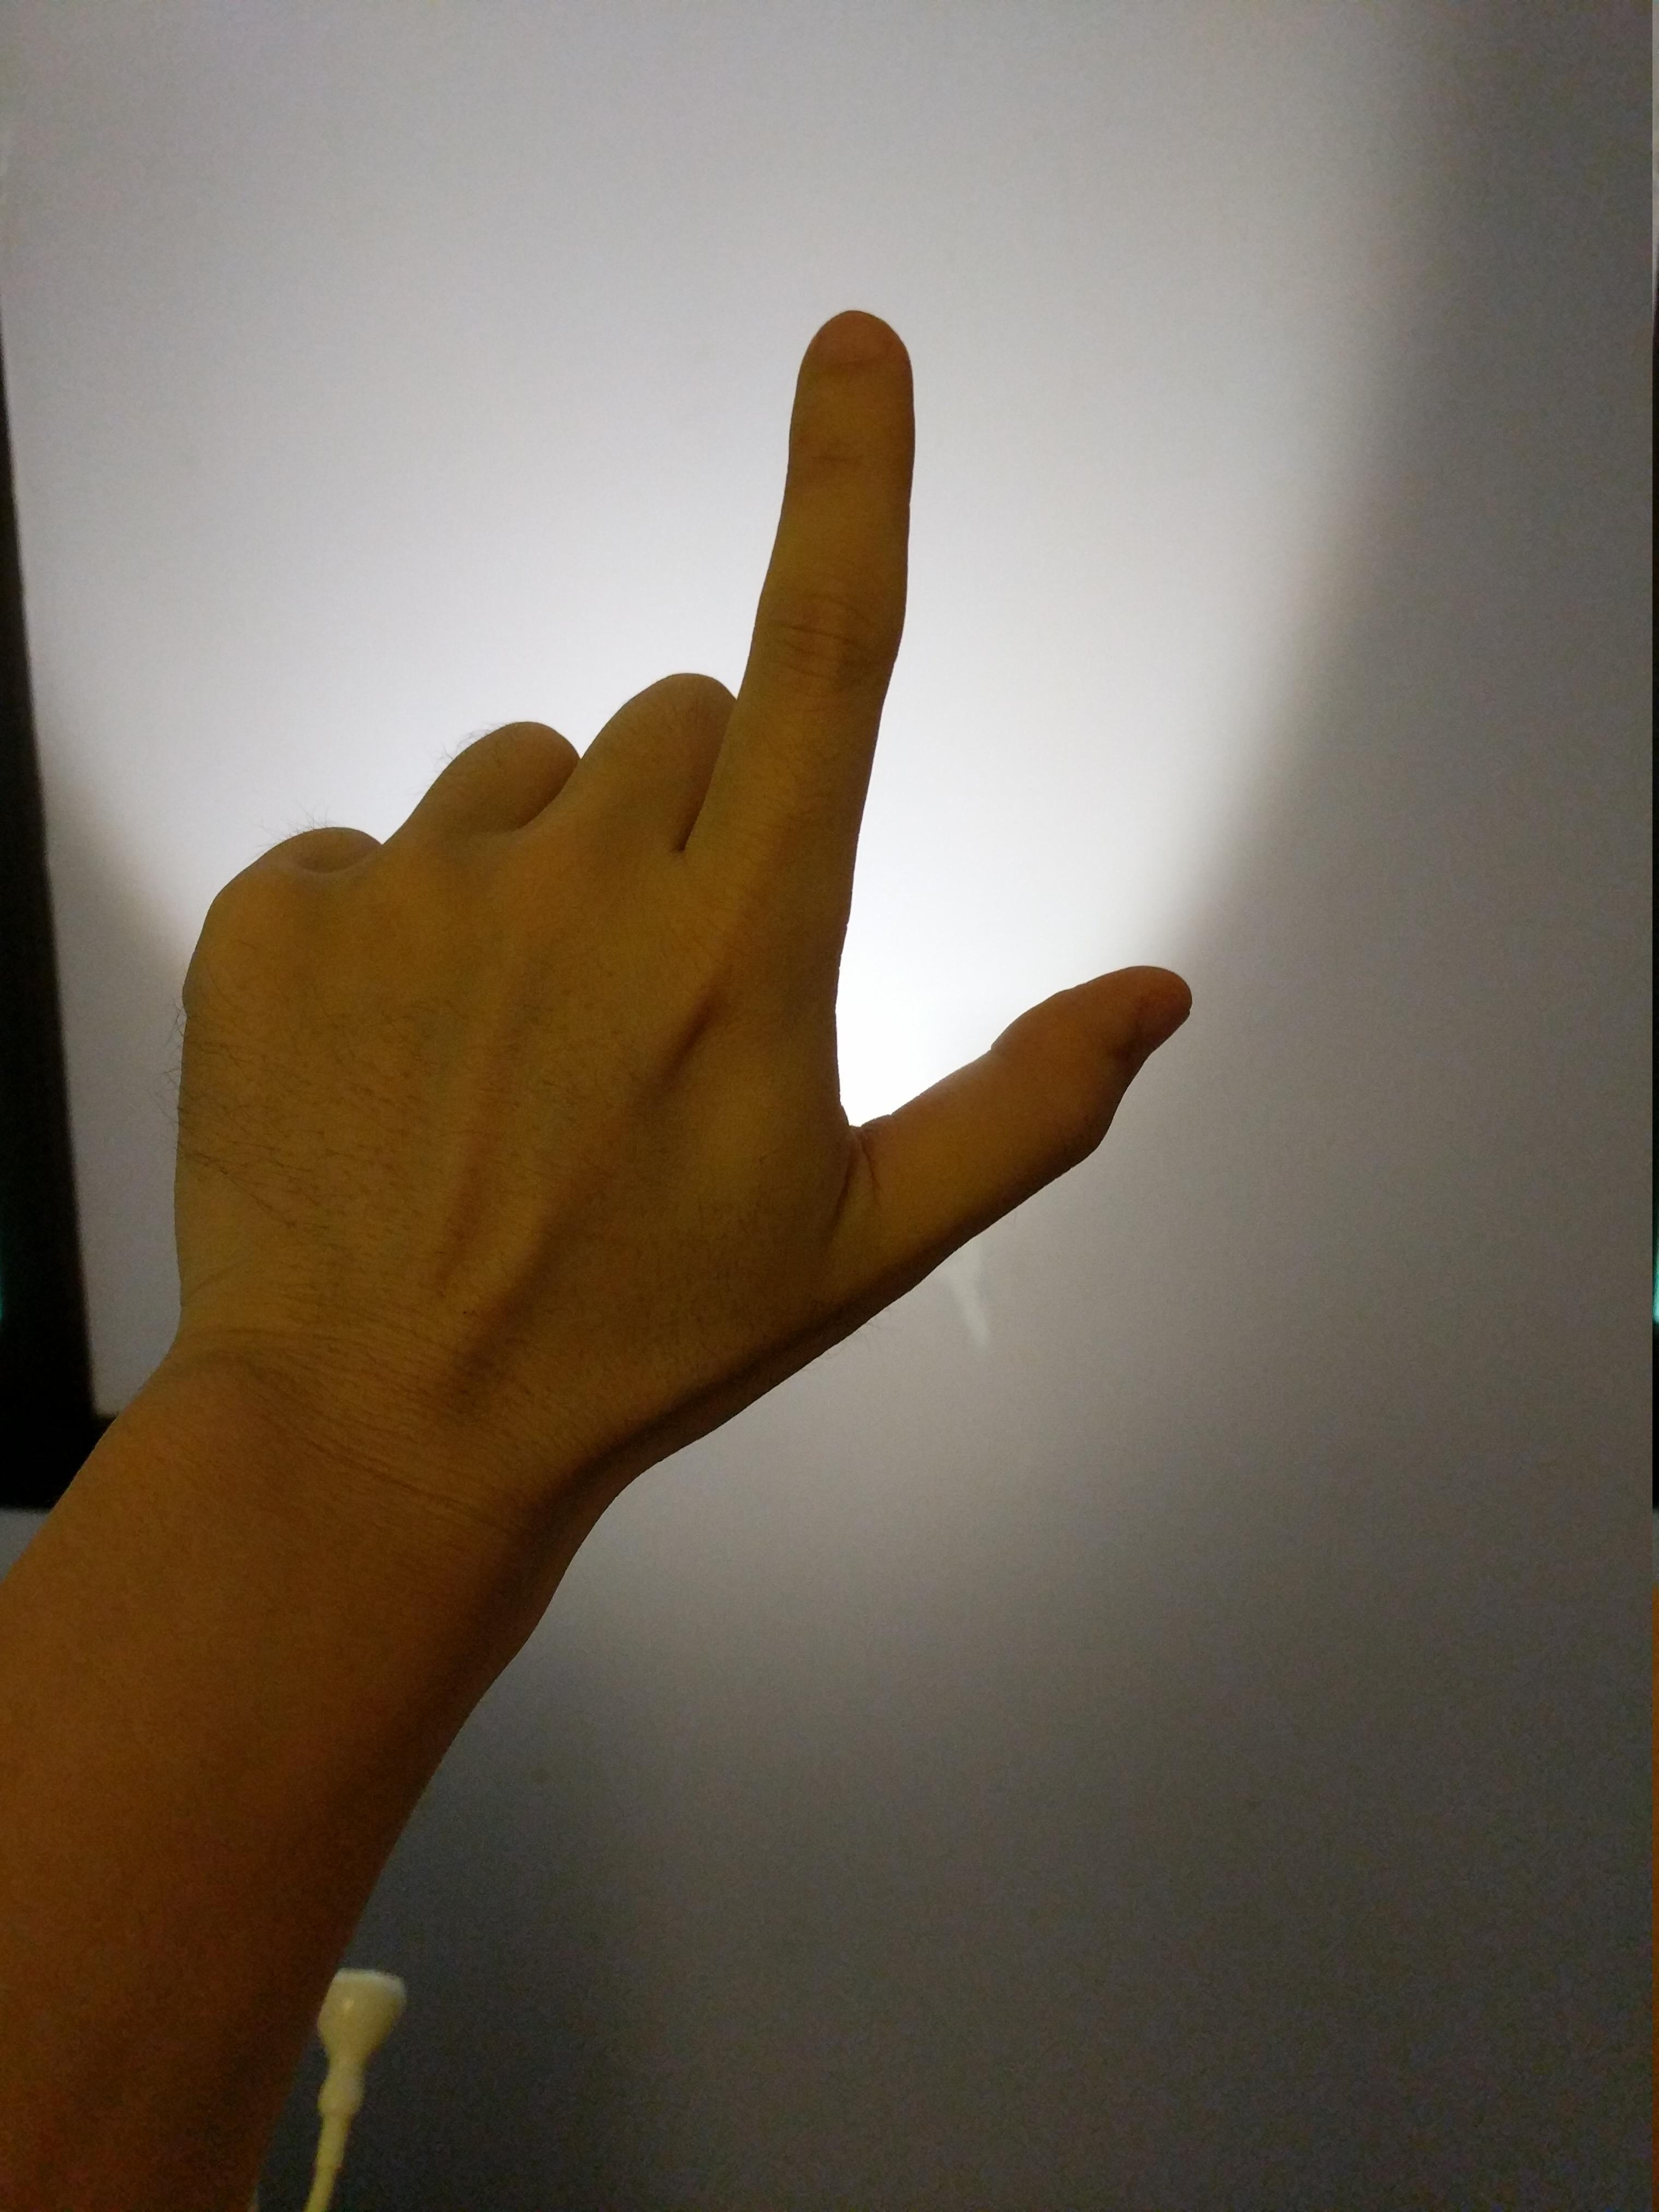L: (150, 287, 1220, 1522)
